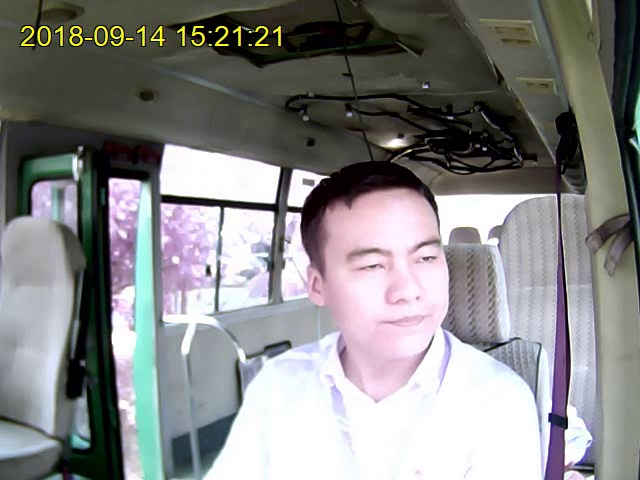closed_mouth: (383, 312, 429, 329)
